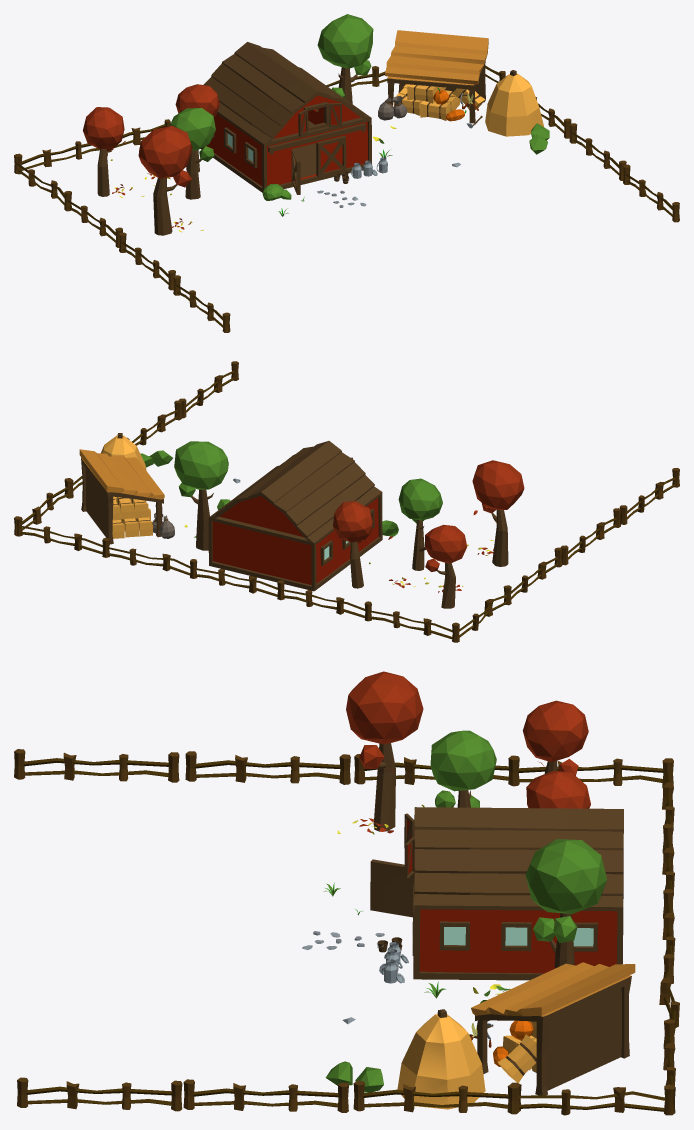
The model's file is garden.glb.
The picture shows the model from 3 angles, top to bottom: view 1: azimuth 30°, elevation 25°; view 2: azimuth 150°, elevation 25°; view 3: azimuth 270°, elevation 25°; orthographic projection. The views are drawn at different scales.
Parts seen in each view (by area): view 1: ambar, storage, tree1004, tree, fence1006 (×4), hay, tree002, tree1002, hay1009, tree1003, fence1010, fence (+1 smaller); view 2: ambar, storage, tree, tree1004, fence1006 (×4), tree1002, tree002, tree1003, hay1009, fence006, fence1011, fence1010 (+6 smaller); view 3: ambar, storage, fence1006 (×5), tree1004, tree, hay, tree002, tree1002, tree1003, fence002, hay1009, fence1009 (+6 smaller).
Boxes of the visible parts, <box> form: ambar: <box>200,42,371,194</box>; storage: <box>384,30,488,123</box>; tree1004: <box>138,125,192,235</box>; tree: <box>317,14,373,103</box>; fence1006 (×4): <box>119,123,679,332</box>; hay: <box>485,70,543,136</box>; tree002: <box>170,108,215,199</box>; tree1002: <box>83,107,124,196</box>; hay1009: <box>394,84,485,120</box>; tree1003: <box>175,84,219,172</box>; fence1010: <box>15,141,108,174</box>; fence: <box>14,153,70,211</box>; ambar: <box>208,441,382,591</box>; storage: <box>79,449,164,544</box>; tree: <box>174,441,230,550</box>; tree1004: <box>472,460,524,566</box>; fence1006 (×4): <box>127,361,679,565</box>; tree1002: <box>424,524,467,608</box>; tree002: <box>398,478,442,570</box>; tree1003: <box>333,501,372,588</box>; hay1009: <box>112,496,152,538</box>; fence006: <box>102,538,196,578</box>; fence1011: <box>277,580,368,621</box>; fence1010: <box>365,601,459,641</box>; ambar: <box>370,807,623,980</box>; storage: <box>469,962,635,1095</box>; fence1006 (×5): <box>14,749,518,1114</box>; tree1004: <box>346,671,423,831</box>; tree: <box>525,839,606,968</box>; hay: <box>397,1009,485,1109</box>; tree002: <box>430,730,496,807</box>; tree1002: <box>522,700,588,775</box>; tree1003: <box>526,770,590,808</box>; fence002: <box>510,1082,675,1115</box>; hay1009: <box>497,1021,536,1082</box>; fence1009: <box>354,754,519,786</box>.
Bounding box in the file's own units: 34.16 × 7.87 × 28.37.
